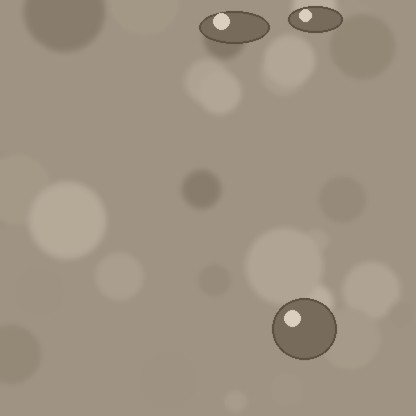gota: (272, 300, 336, 364), (199, 12, 269, 46), (288, 7, 342, 35)
